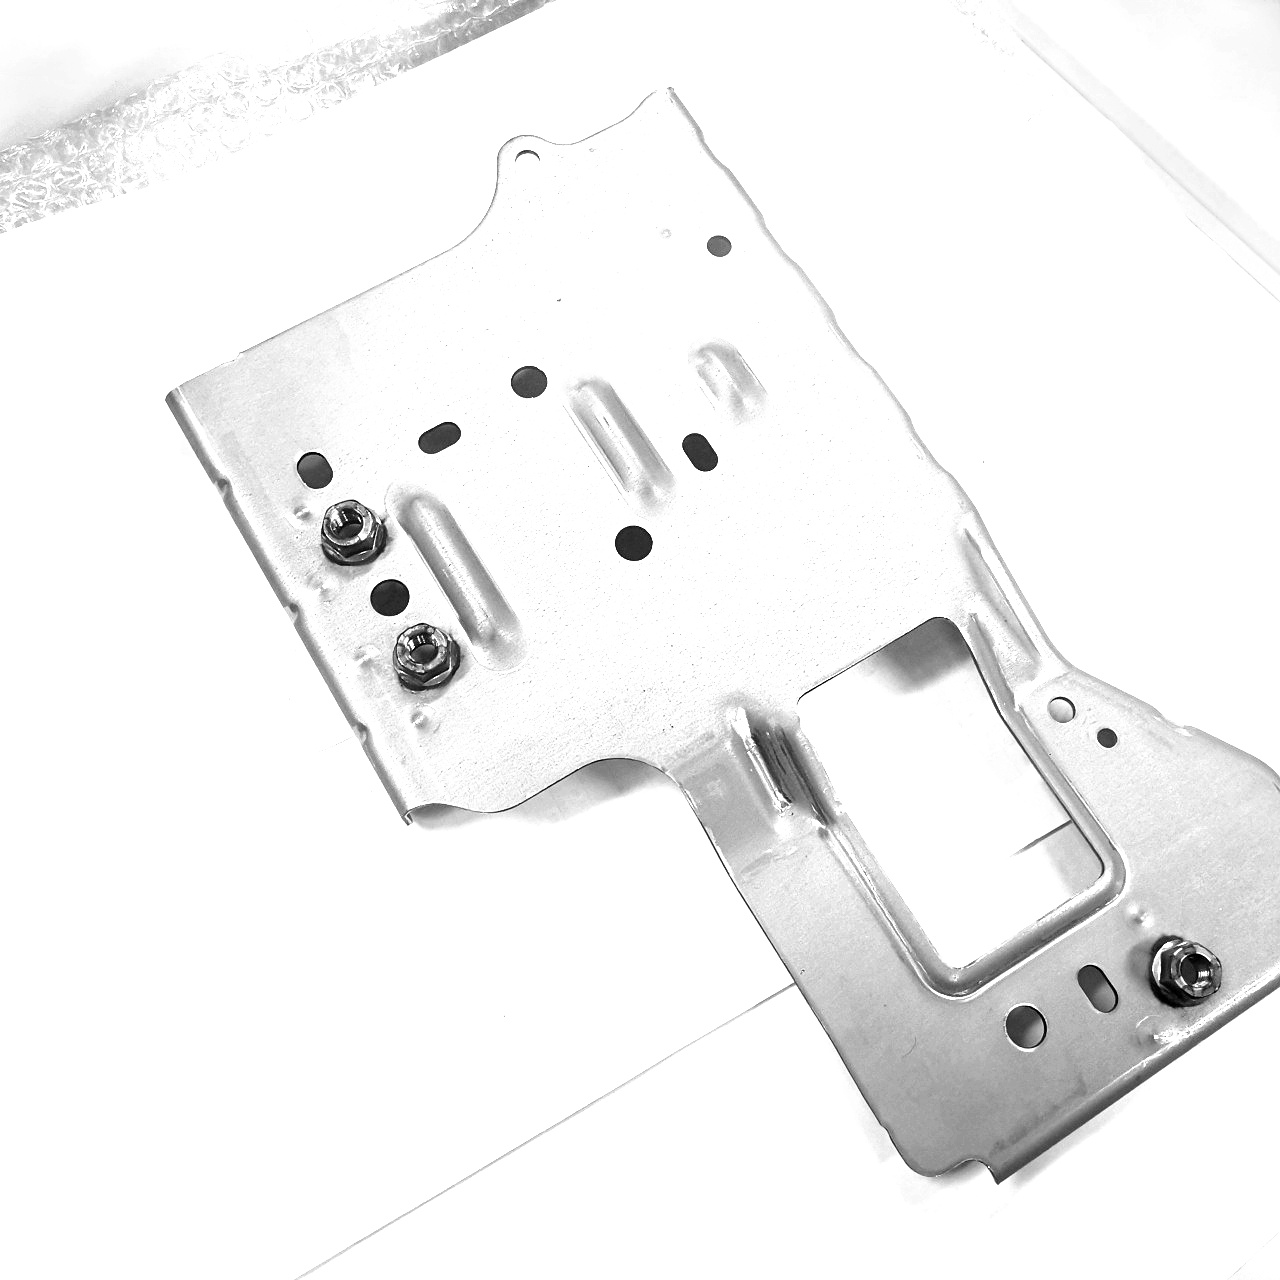dog: (1144, 924, 1224, 1014), (390, 620, 464, 700), (314, 496, 386, 576)
